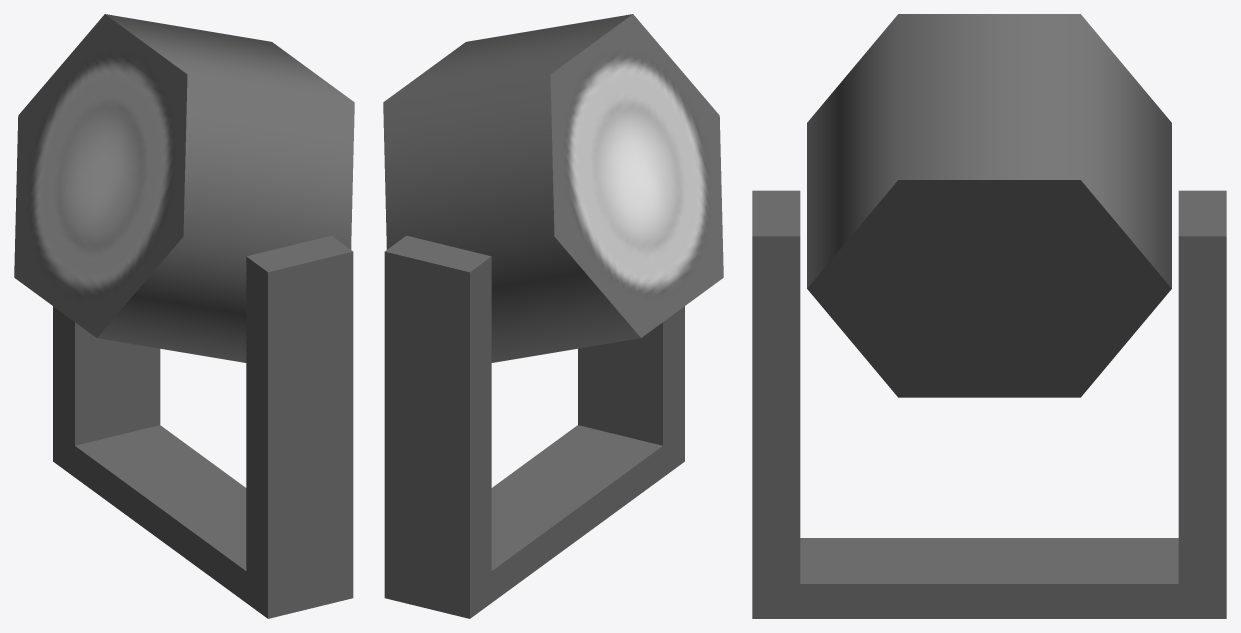
File: light_under.fbx
The picture shows the model from 3 angles, left to right: view 1: azimuth 30°, elevation 25°; view 2: azimuth 150°, elevation 25°; view 3: azimuth 270°, elevation 25°; orthographic projection. The views are drawn at different scales.
Parts seen in each view (by area): view 1: polySurface37; view 2: polySurface37; view 3: polySurface37.
Part boxes in pixels (left/top/right/bottom): polySurface37: left=14, top=14, right=354, bottom=618; polySurface37: left=383, top=14, right=723, bottom=618; polySurface37: left=752, top=14, right=1226, bottom=618.
Size of the model in its own units: 4.81 by 8.89 by 6.94.
Materials: 1 (1 with a texture image).
